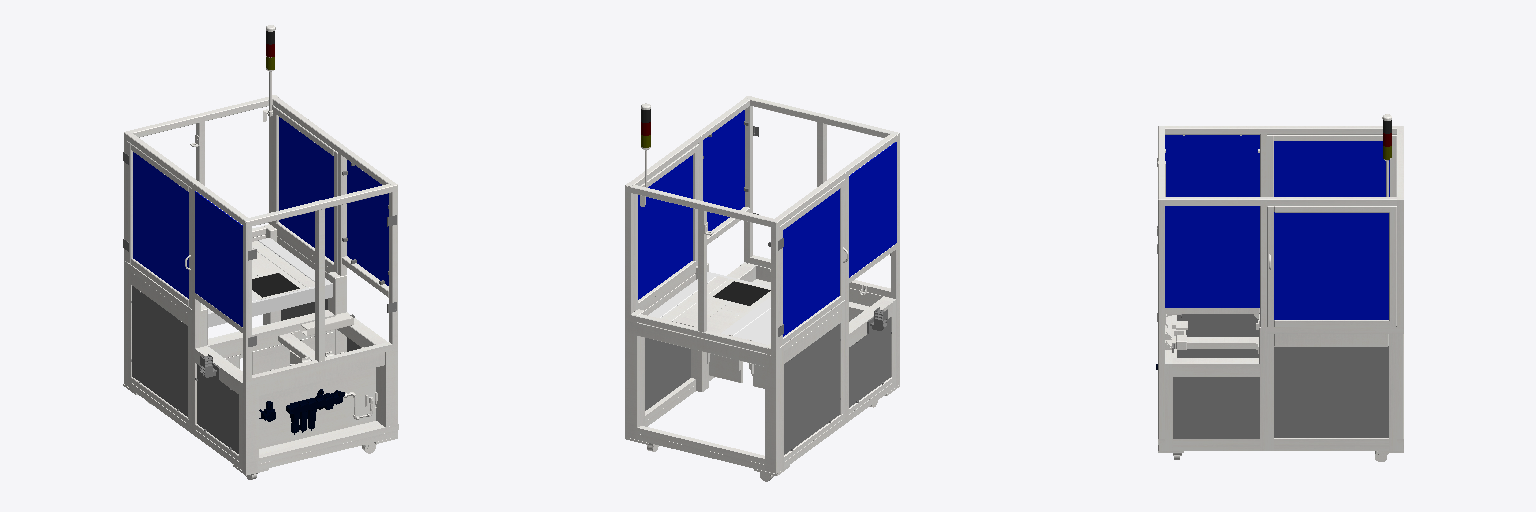
3 renders of one model, left to right at view 1: azimuth 30°, elevation 25°; view 2: azimuth 150°, elevation 25°; view 3: azimuth 270°, elevation 25°, orthographic.
Parts seen in each view (by area): view 1: Object181, sffgr, Object185, dfdgd, Object182, Box573, Object178; view 2: Object181, sffgr, Object185, dfdgd, Box573; view 3: sffgr, Object181, Object185.
Part boxes in pixels (bbox=[...]): Object181: bbox=[123, 25, 398, 479]; sffgr: bbox=[133, 117, 388, 326]; Object185: bbox=[123, 56, 396, 453]; dfdgd: bbox=[201, 238, 332, 327]; Object182: bbox=[259, 389, 344, 434]; Box573: bbox=[252, 273, 299, 297]; Object178: bbox=[300, 314, 353, 335]; Object181: bbox=[625, 96, 899, 481]; sffgr: bbox=[638, 110, 896, 336]; Object185: bbox=[645, 121, 891, 454]; dfdgd: bbox=[648, 272, 770, 344]; Box573: bbox=[713, 281, 770, 305]; sffgr: bbox=[1165, 135, 1389, 319]; Object181: bbox=[1158, 114, 1403, 461]; Object185: bbox=[1157, 245, 1388, 438].
Bounding box in the file's own units: 1133 × 2179 × 1409.
Materials: 8 (2 with a texture image).